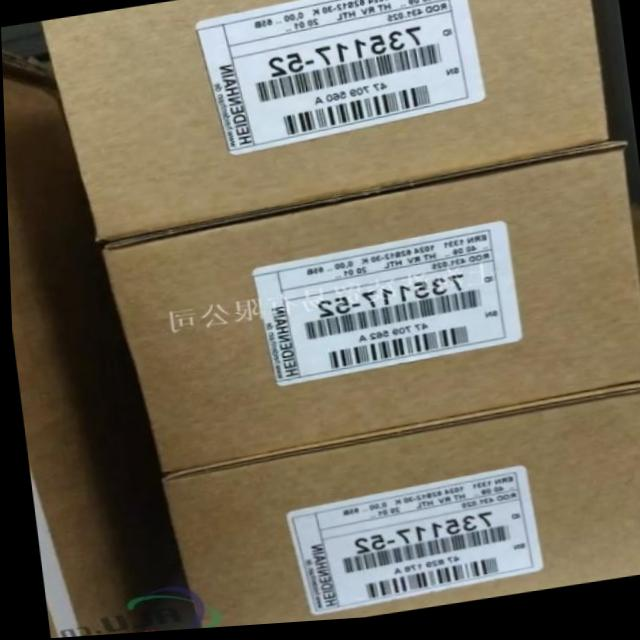box: (97, 150, 640, 476), (40, 0, 607, 243), (158, 389, 640, 631)
